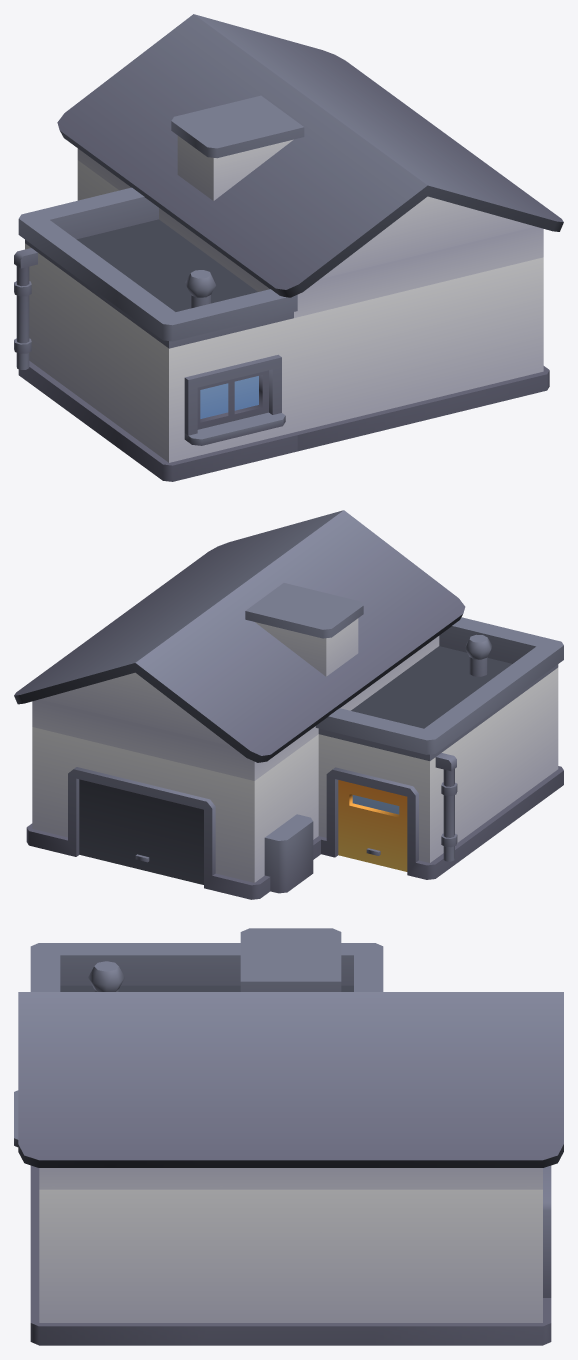
File: building-h.glb
3 renders of one model, top to bottom at view 1: azimuth 30°, elevation 25°; view 2: azimuth 150°, elevation 25°; view 3: azimuth 270°, elevation 25°, orthographic. The views are drawn at different scales.
Visible parts, largest first — view 1: building-h; view 2: building-h; view 3: building-h.
Boxes of the visible parts, box(x1,y1,x2,y2) form: building-h: box(14, 14, 563, 481); building-h: box(14, 510, 563, 899); building-h: box(14, 928, 563, 1345).
Bounding box in the file's own units: 1.32 × 0.7336 × 1.31.
2 materials, 2 textured.
